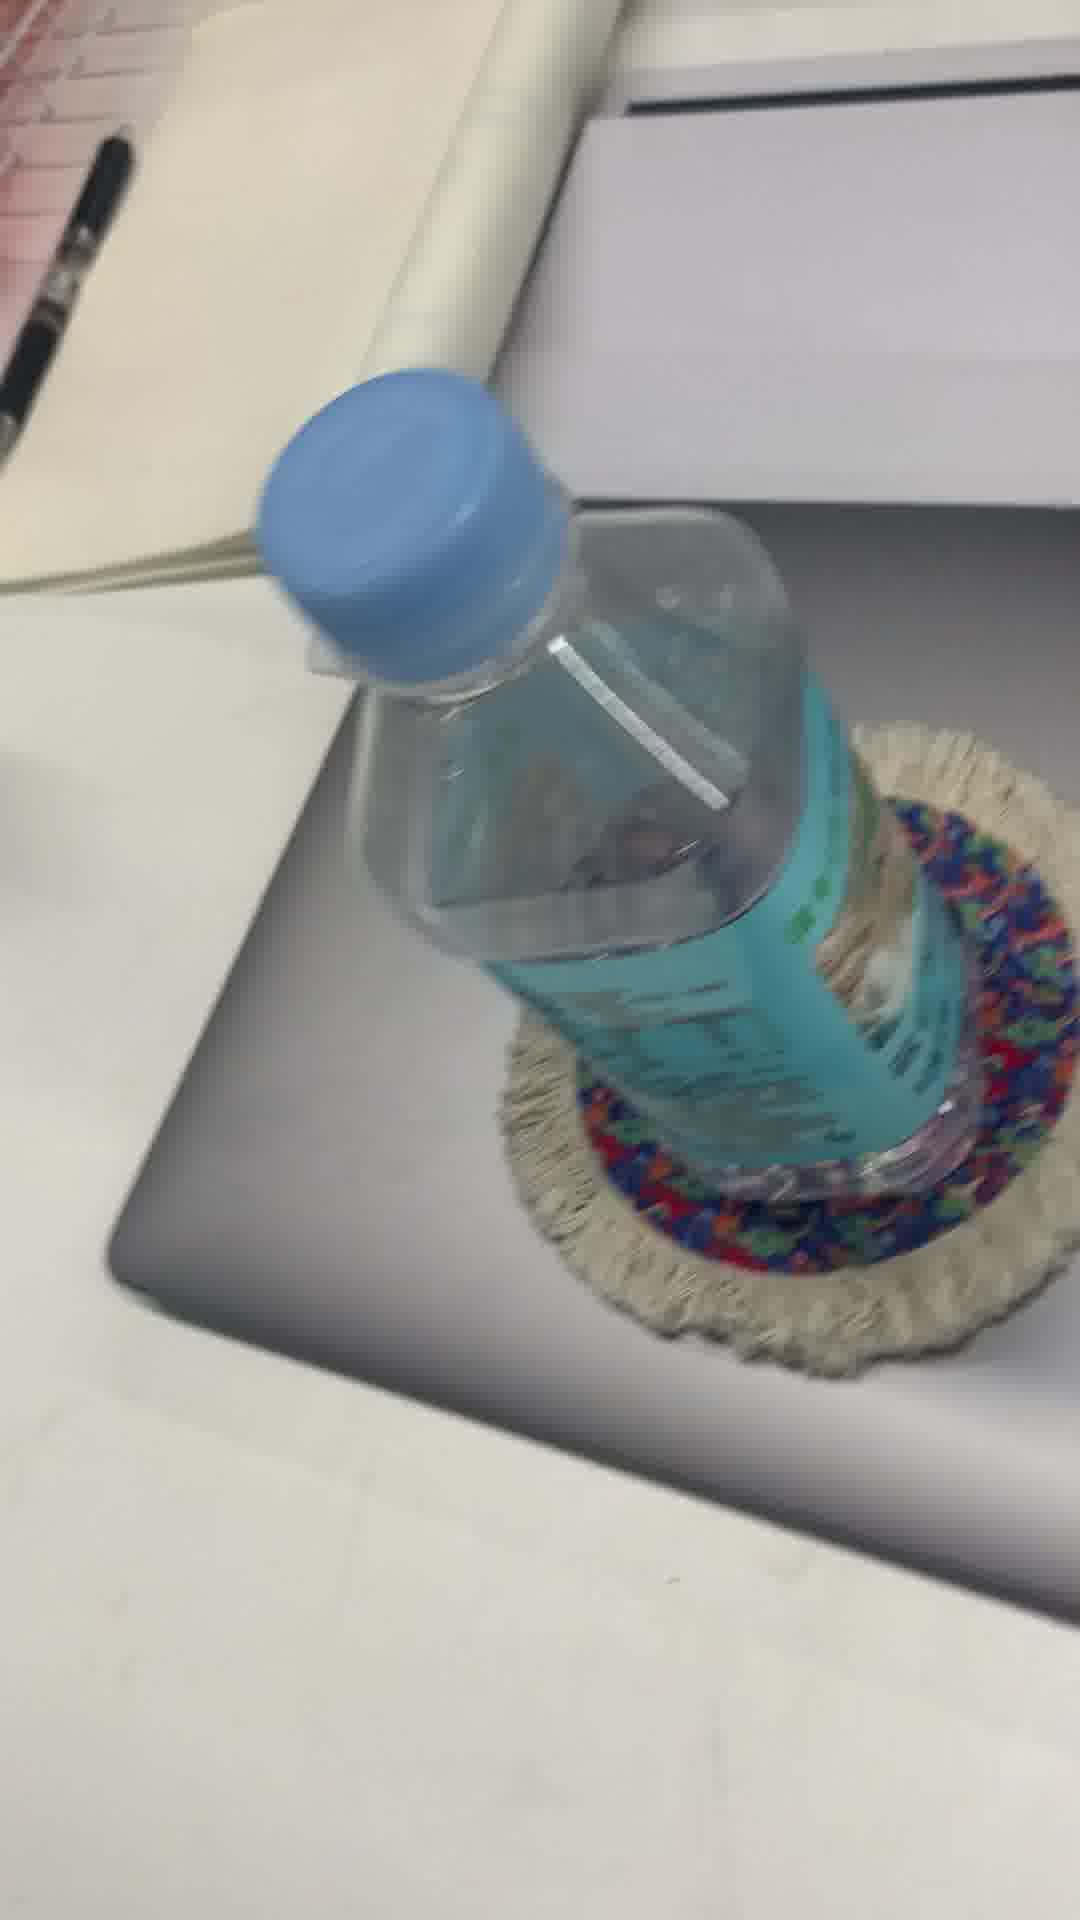水瓶: (252, 369, 1001, 1215)
